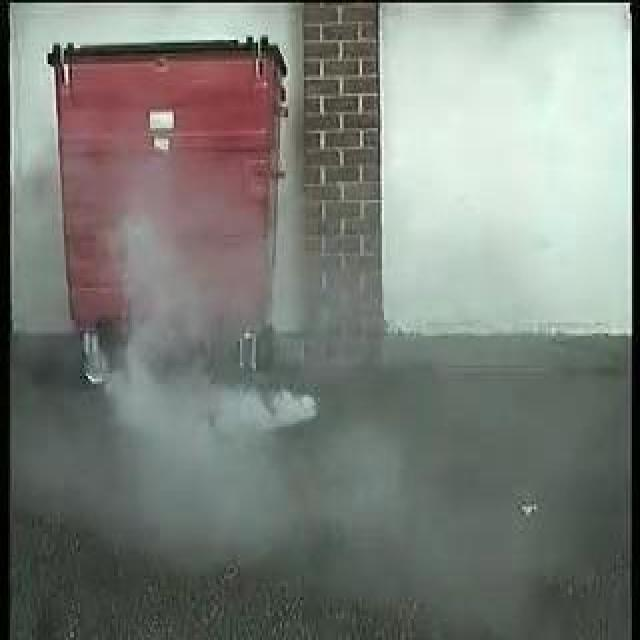Smoke: (110, 212, 316, 431)
